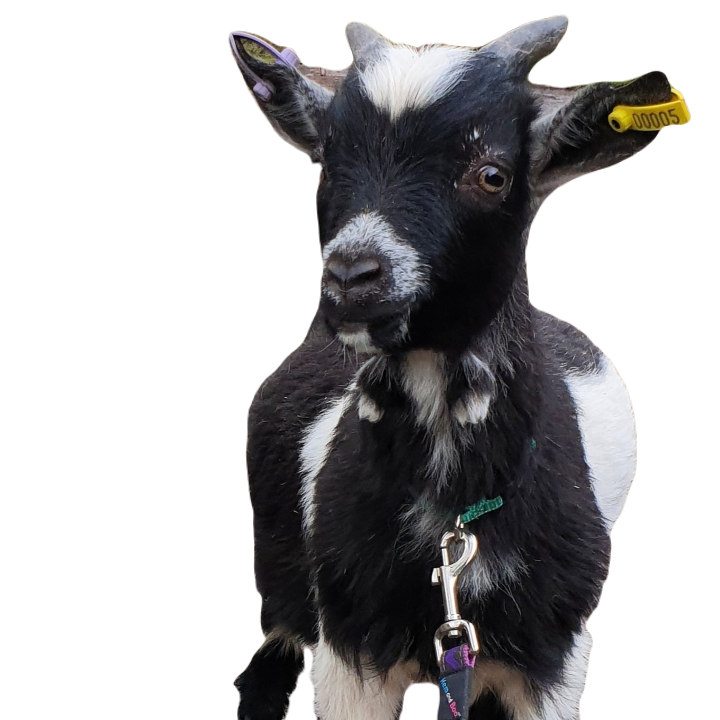Goat: (226, 15, 686, 719)
